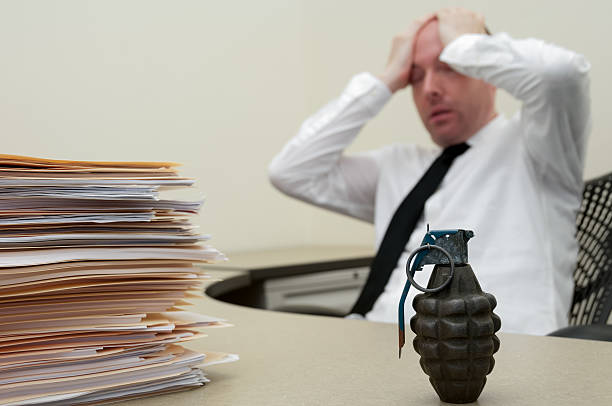e1: (401, 227, 501, 404)
